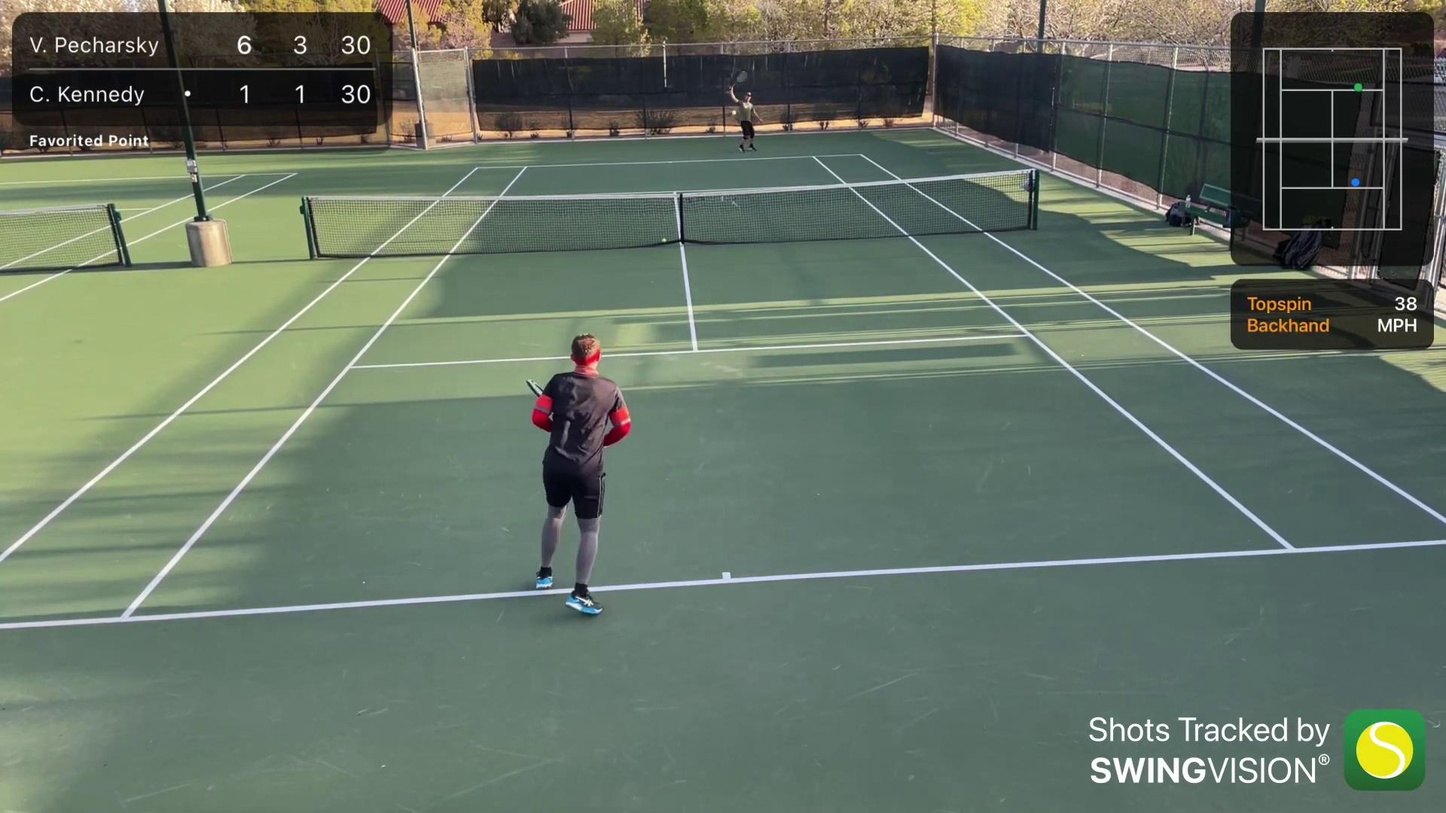ball: (729, 108, 738, 117), (659, 237, 670, 244)
